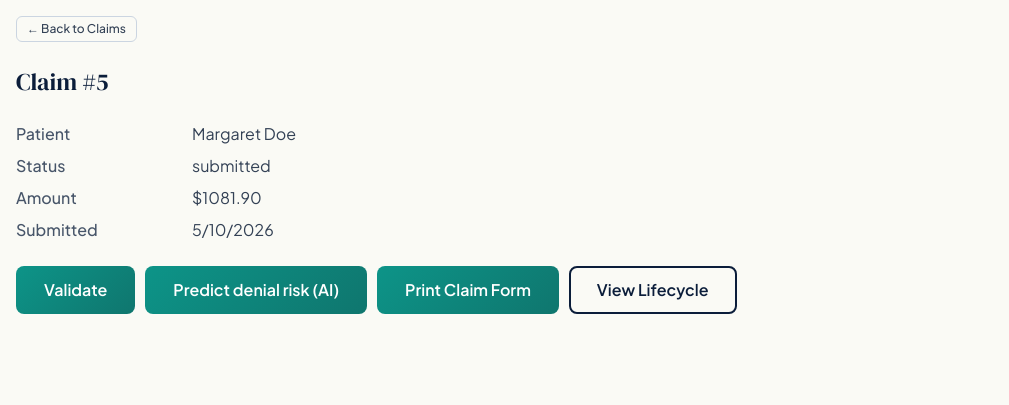
Test case: ClaimDetail — Validate (scrub) › shows passed result with no findings
Expected: the heading "Claim #5" is shown, [16,65,108,98]
Click the button "Validate". click: click(76, 290)
box: [16,266,135,314]
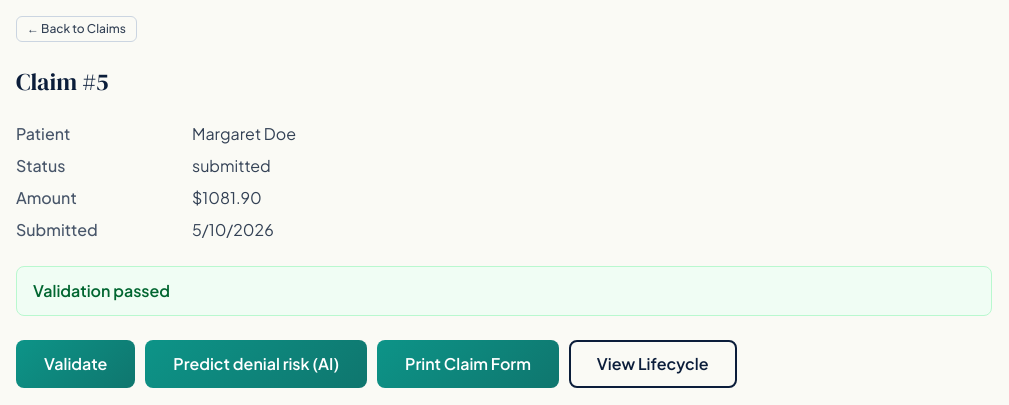
Expected: the text "Validation passed" is shown, [33,280,170,301]
